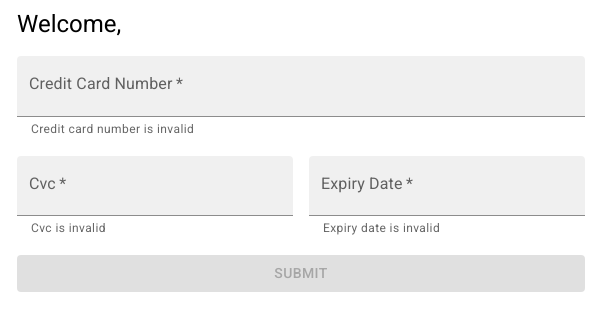
Scenario: RegisterCardForm Tests › Should show expiry date with correct backslash
In the field with test id "ExpiryDateFormat": (447, 186) [309,156,585,216], type "1221"
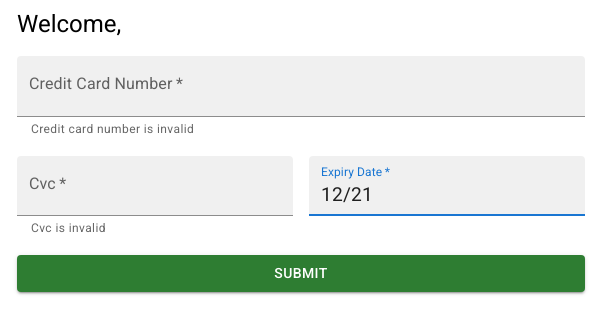
expect the field with test id "ExpiryDateFormat" holds "12/21": met, box [309,156,585,216]
